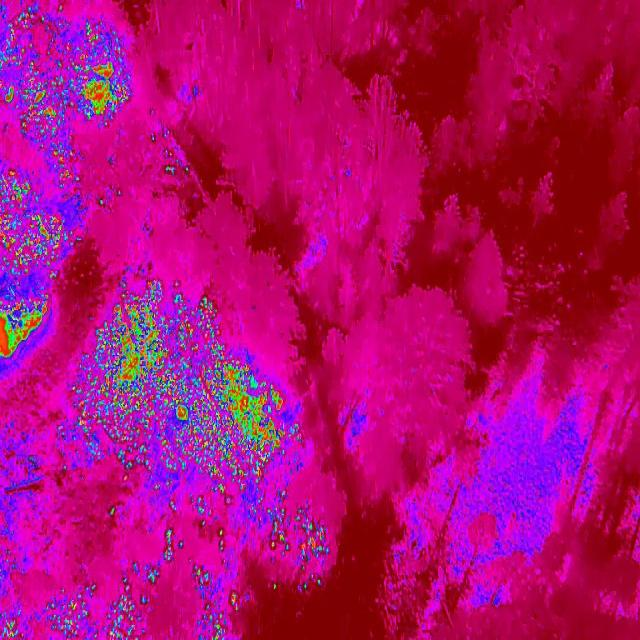fire: (70, 276, 300, 492), (0, 0, 135, 149), (0, 170, 68, 285), (262, 497, 332, 592), (184, 561, 249, 640), (104, 560, 160, 640), (0, 289, 50, 361), (192, 487, 240, 554), (46, 580, 96, 640), (147, 126, 190, 178), (46, 142, 83, 186), (96, 186, 122, 210), (162, 524, 178, 562), (0, 614, 22, 638), (106, 504, 117, 520), (167, 499, 180, 511)
